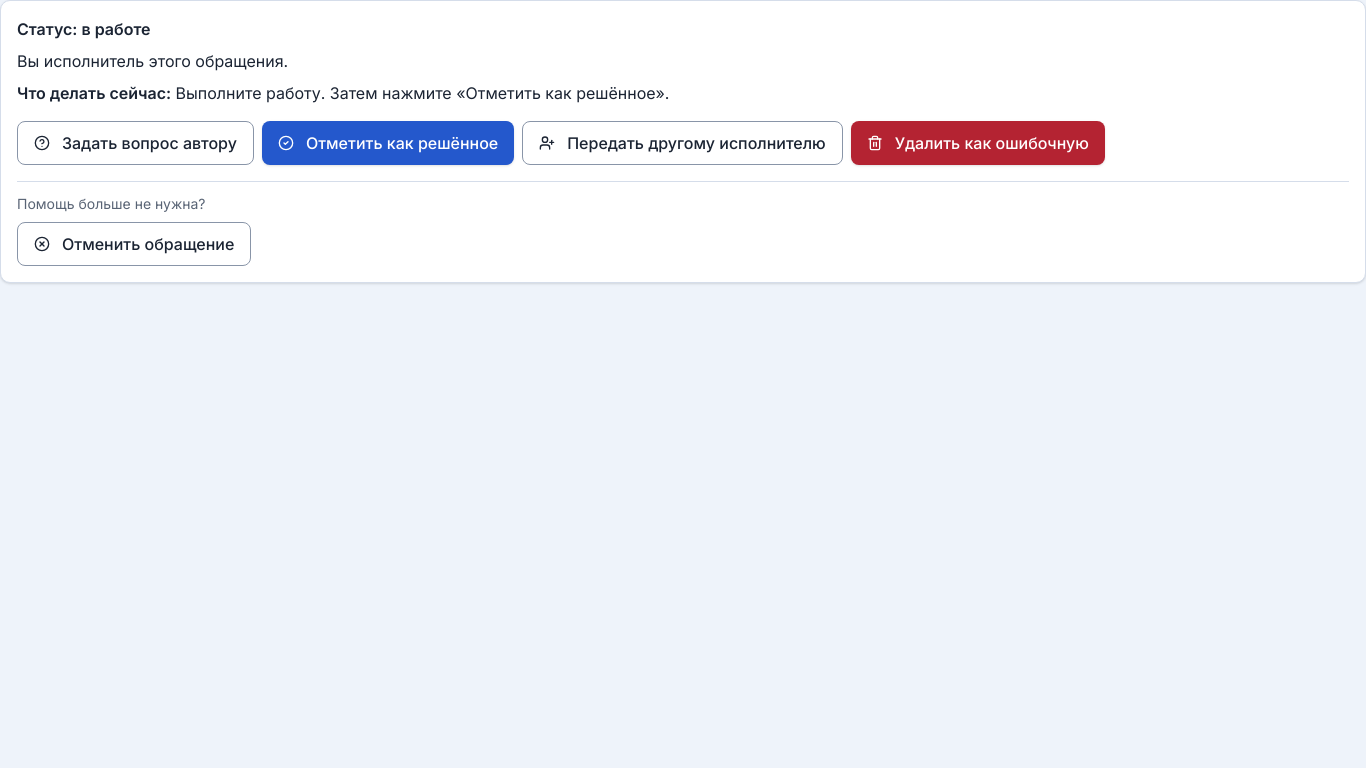
Test: offers transfer after assignment and excludes the current executor from choices
Click the button "Передать другому исполнителю" at (682, 143), box [522,121,843,165]
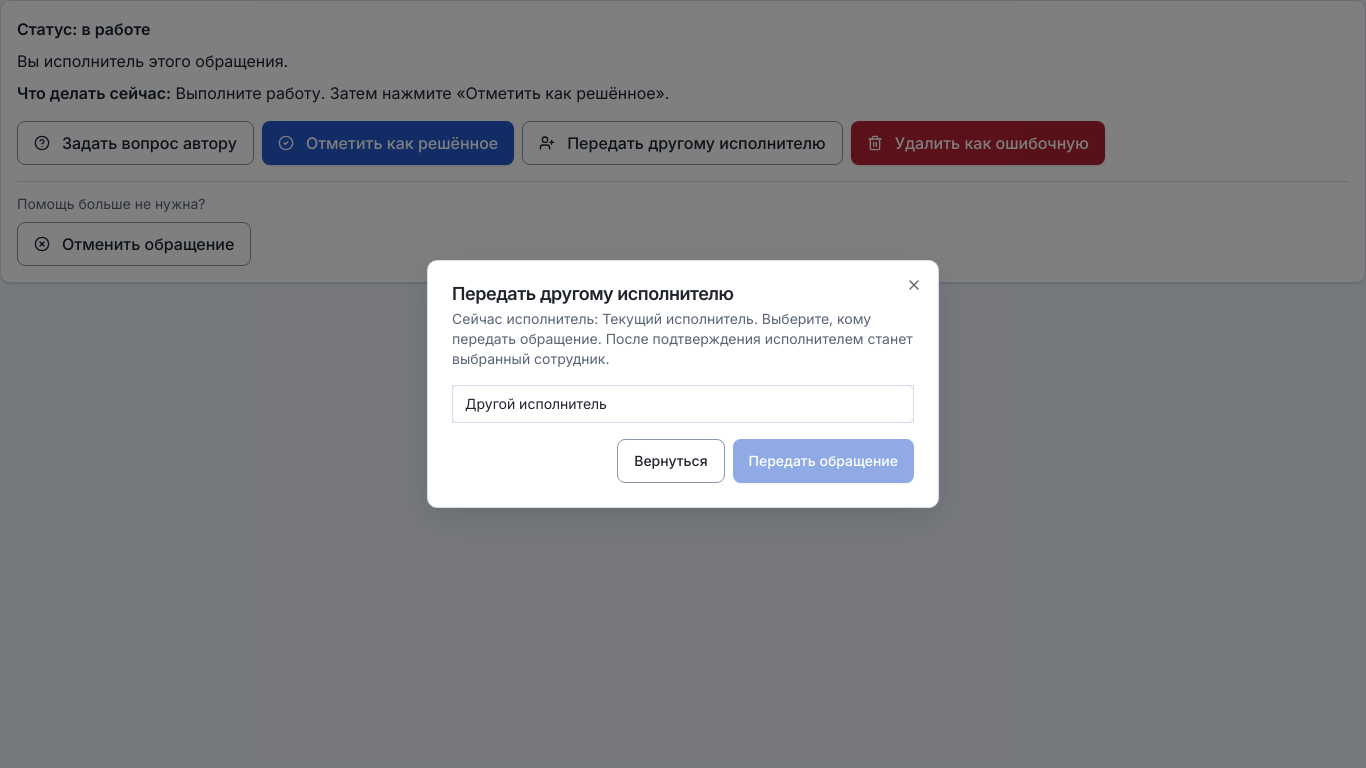
Check: the heading "Передать другому исполнителю" is shown, box [452,283,734,304]
Check: the text "Сейчас исполнитель: Текущий исполнитель" is shown, box [452,310,913,367]
Check: the button "Передать обращение" is disabled, box [732,439,914,483]
Click the button "Другой исполнитель" at (536, 404), box [452,385,914,423]
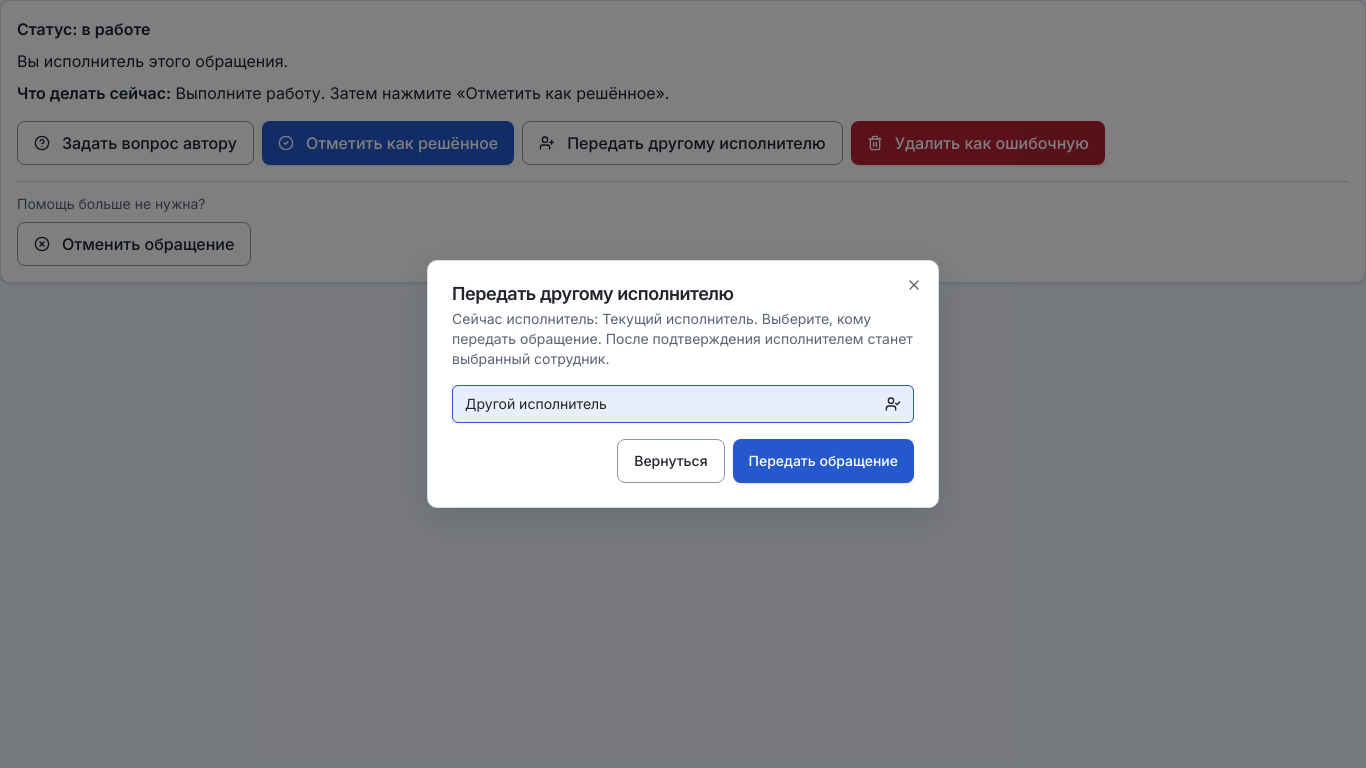
Check: the button "Передать обращение" is enabled, box [732,439,914,483]
